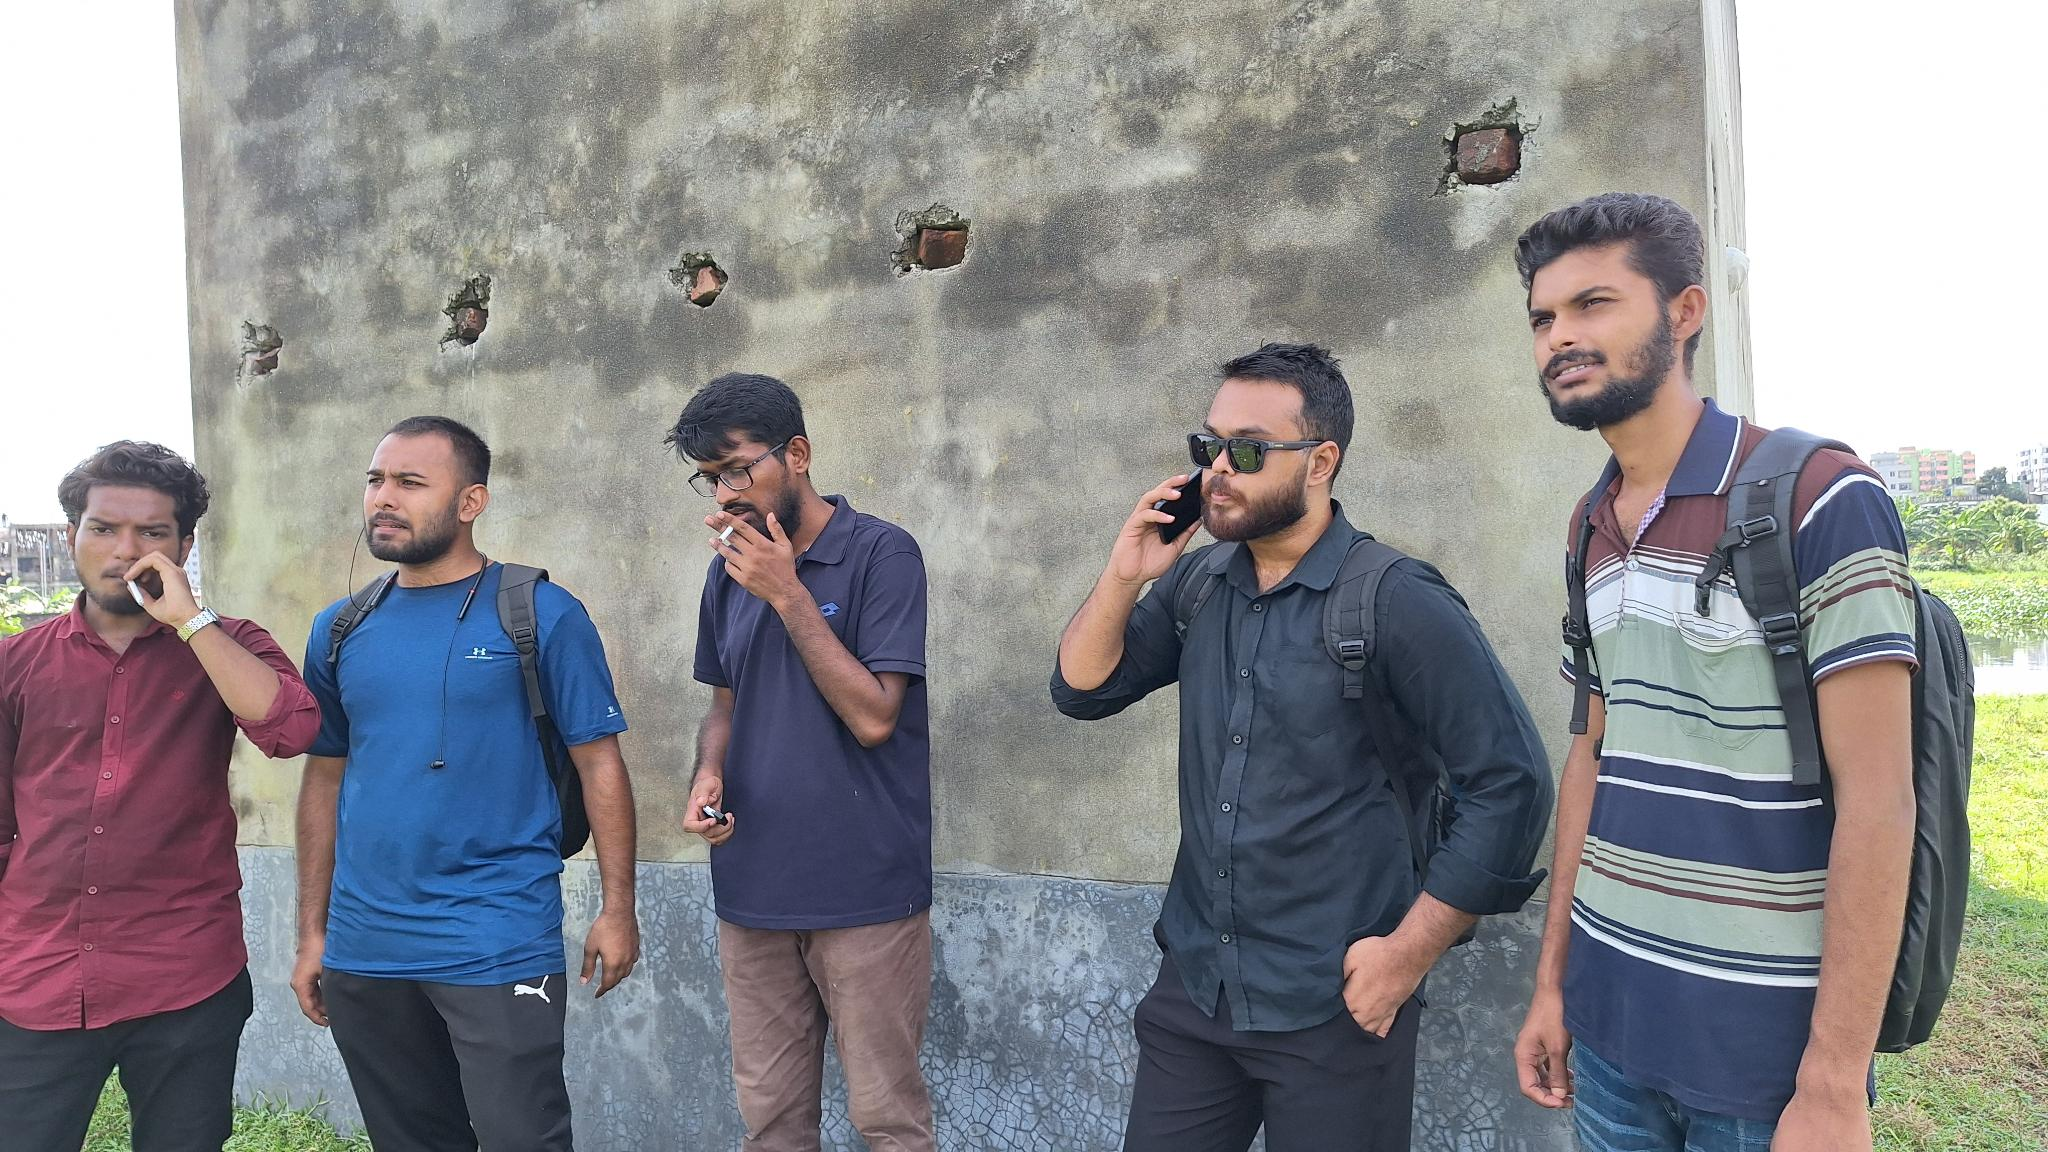cigarette: (125, 578, 146, 608), (715, 525, 736, 546)
nonSmoker: (1513, 191, 1973, 1152), (1049, 347, 1554, 1152), (290, 415, 640, 1152)
smoker: (0, 442, 322, 1152), (665, 377, 933, 1152)
